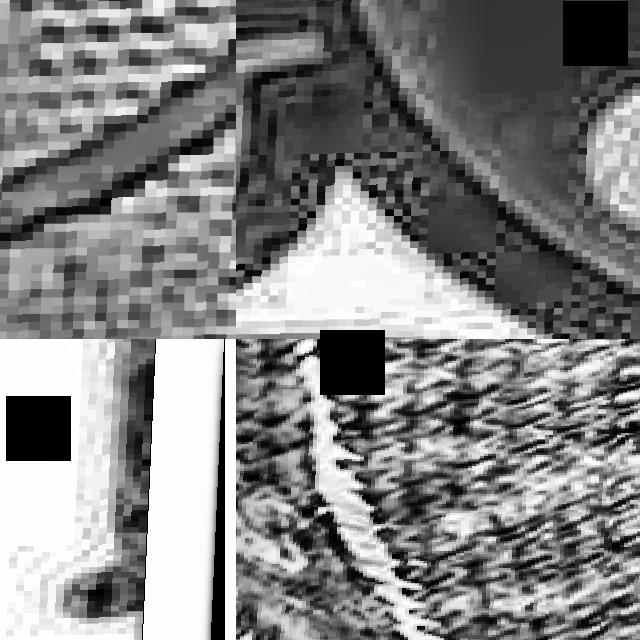crab: (236, 0, 640, 339), (0, 339, 225, 640)
fish: (236, 339, 640, 640), (0, 0, 236, 339)
